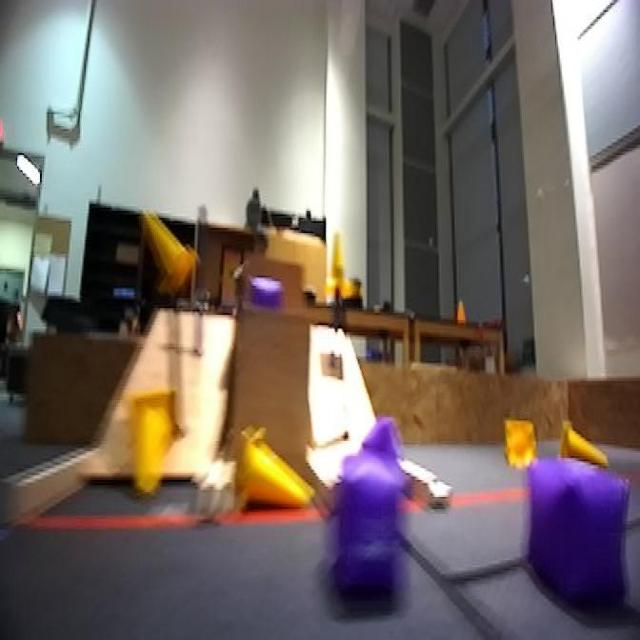frc_cone: (232, 422, 314, 531), (114, 395, 174, 497), (139, 199, 198, 291), (557, 417, 607, 470), (323, 226, 350, 303), (503, 417, 537, 468)
frc_cube: (518, 429, 640, 637), (313, 451, 403, 611), (244, 269, 289, 320), (356, 416, 403, 462)
